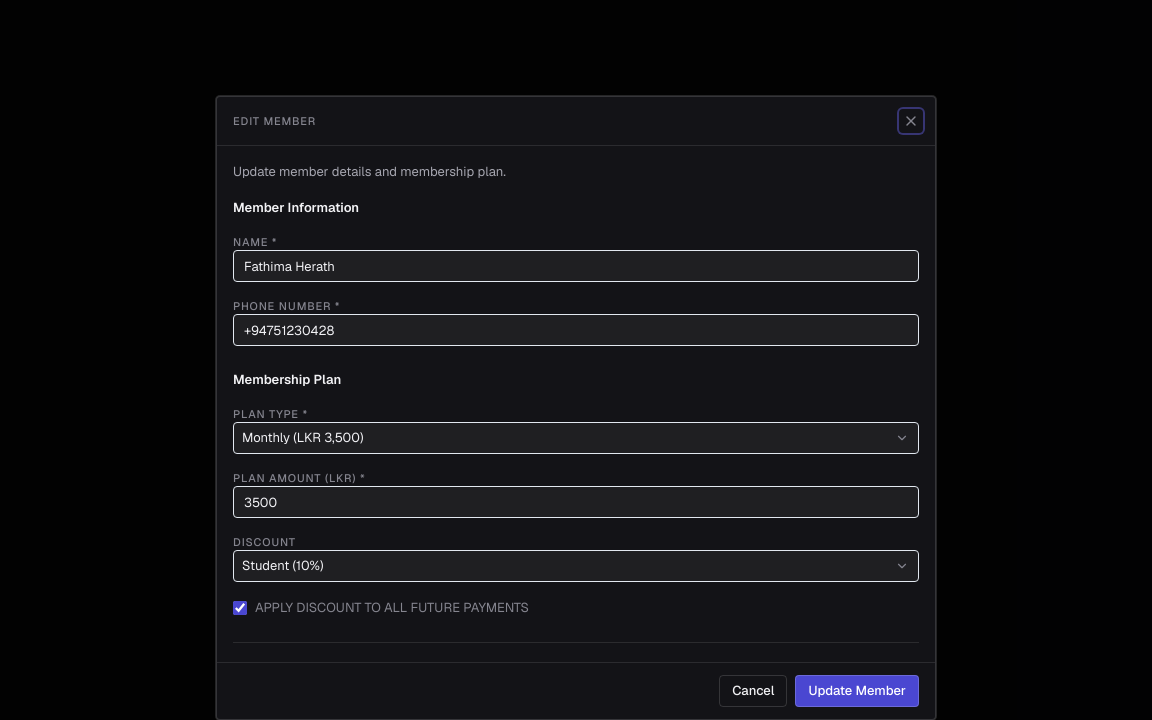
Test case: EditMemberModal — when the server refuses › puts the refusal where it cannot be scrolled out of sight
Replace the text in the number field labelled "Plan Amount (LKR) *" with "4200" at (576, 502), box x1=233 y1=486 x2=919 y2=518
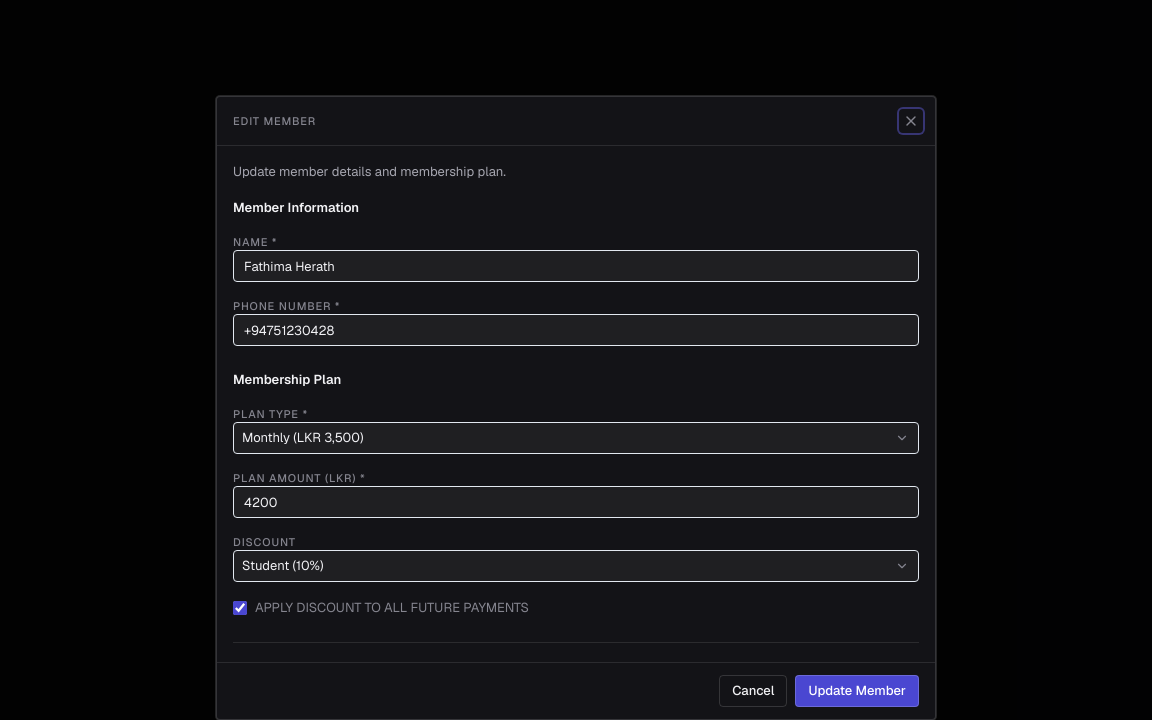
Click the button "Update Member" at (857, 691), box x1=795 y1=675 x2=919 y2=707
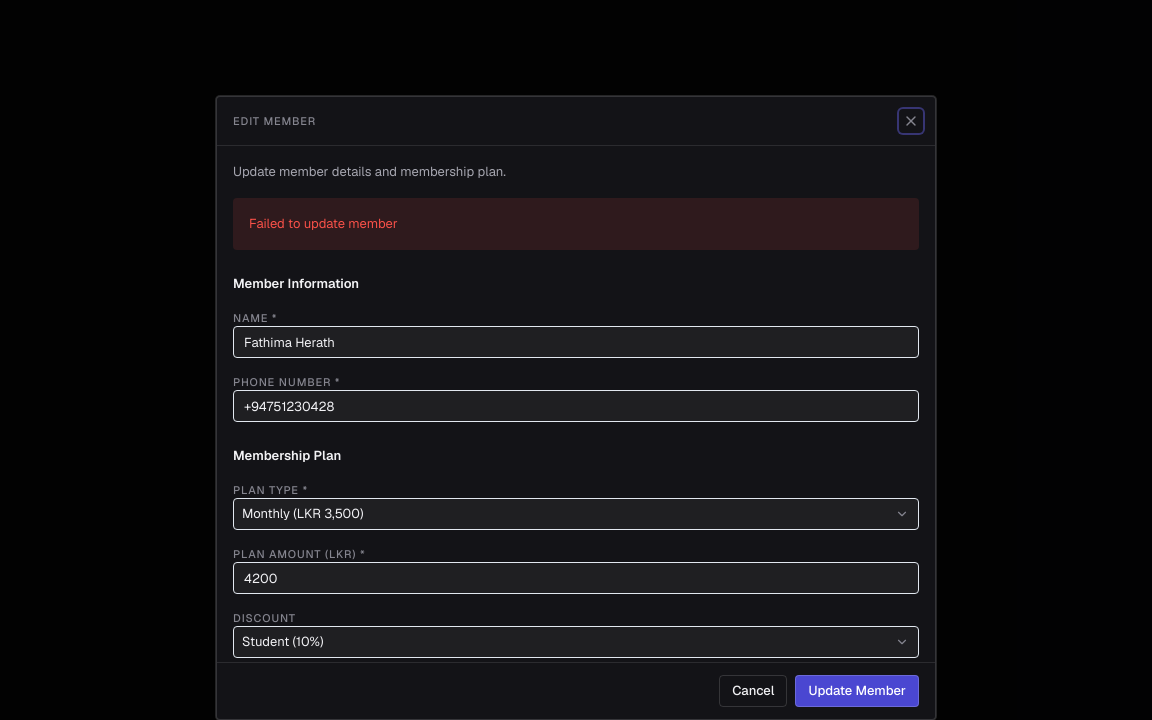
Expected: the message reads "Failed to update member", x1=249 y1=215 x2=398 y2=232
